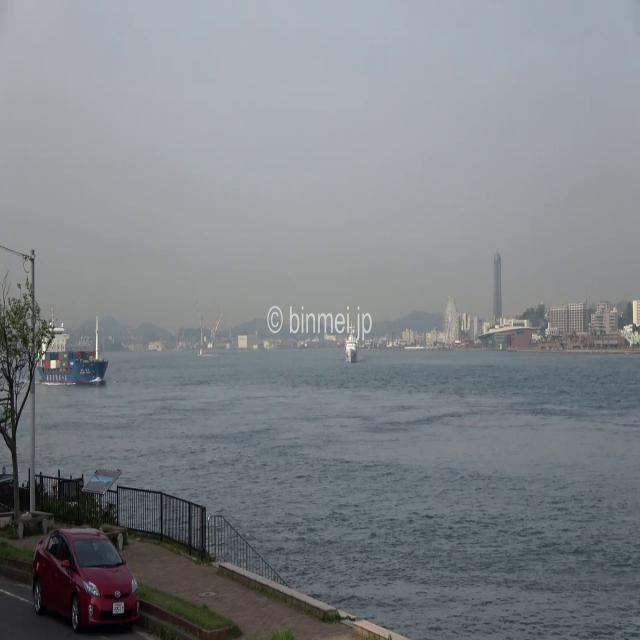Ship: (38, 320, 110, 384), (343, 329, 360, 358)
